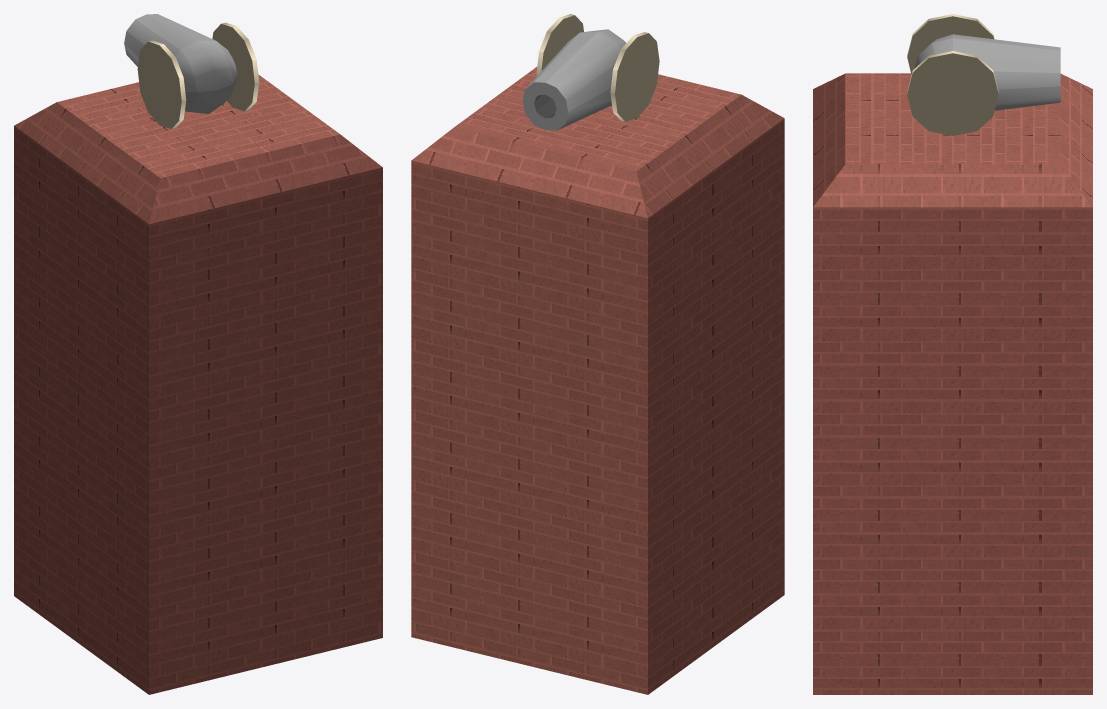
Rendered from uvmd-0268.glb.
The picture shows the model from 3 angles, left to right: view 1: azimuth 30°, elevation 25°; view 2: azimuth 150°, elevation 25°; view 3: azimuth 270°, elevation 25°; orthographic projection. The views are drawn at different scales.
Visible parts, largest first — view 1: uvmd-0268; view 2: uvmd-0268; view 3: uvmd-0268.
Part boxes in pixels (x1,y1,x2,y2): uvmd-0268: (14, 14, 382, 694); uvmd-0268: (411, 14, 784, 694); uvmd-0268: (813, 14, 1092, 694).
Bounding box in the file's own units: 104 × 247 × 104.
2 materials, 2 textured.
